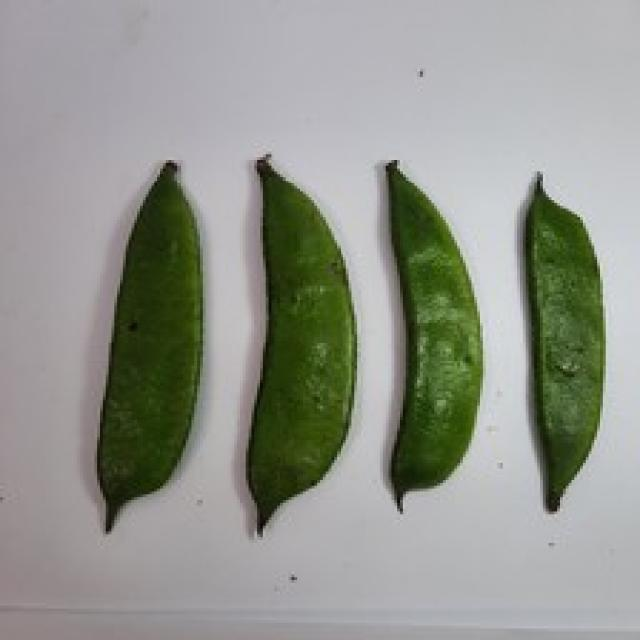Bean: (243, 152, 357, 534), (94, 157, 203, 532), (383, 157, 483, 512), (520, 168, 606, 512)
